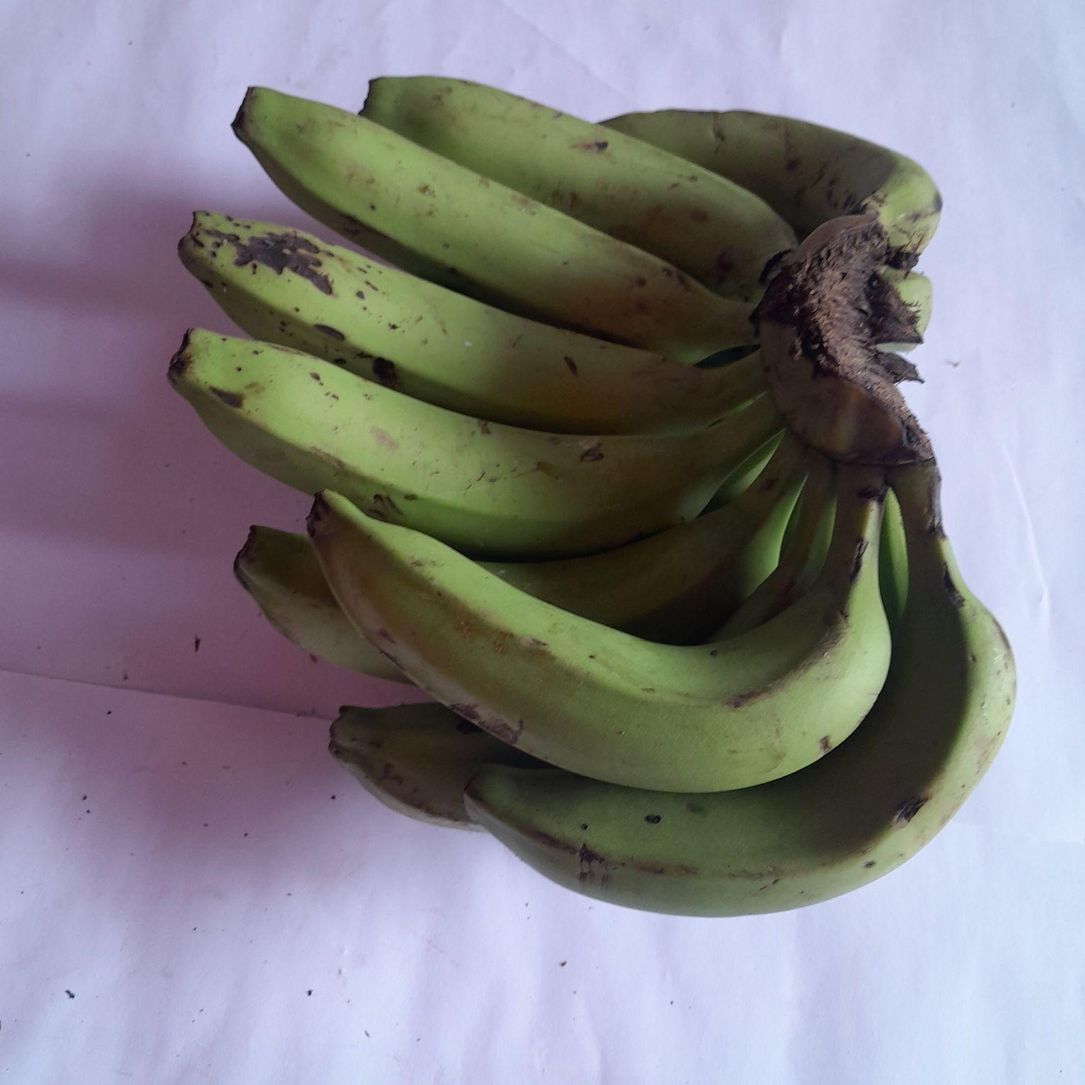Banana Unripe: (331, 466, 1015, 917), (307, 464, 890, 791), (233, 87, 754, 361), (170, 328, 784, 559), (178, 212, 765, 434), (362, 76, 797, 301), (479, 456, 816, 644), (604, 110, 941, 264), (235, 526, 407, 681)
